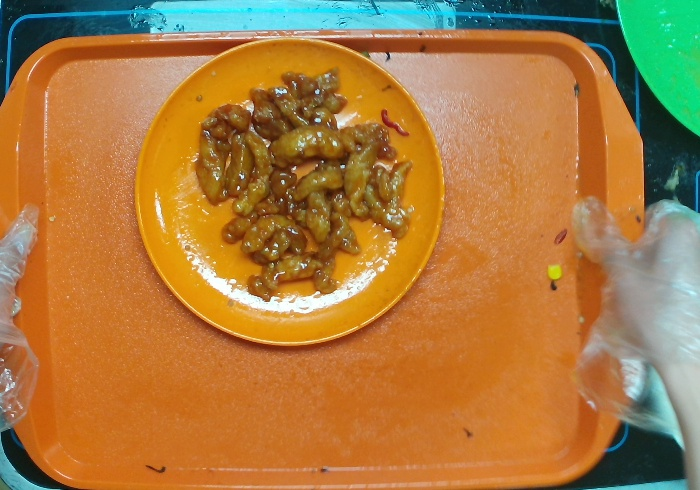HZYJPL-Ju_Huang_Yuan_Pan: (134, 34, 447, 351)
